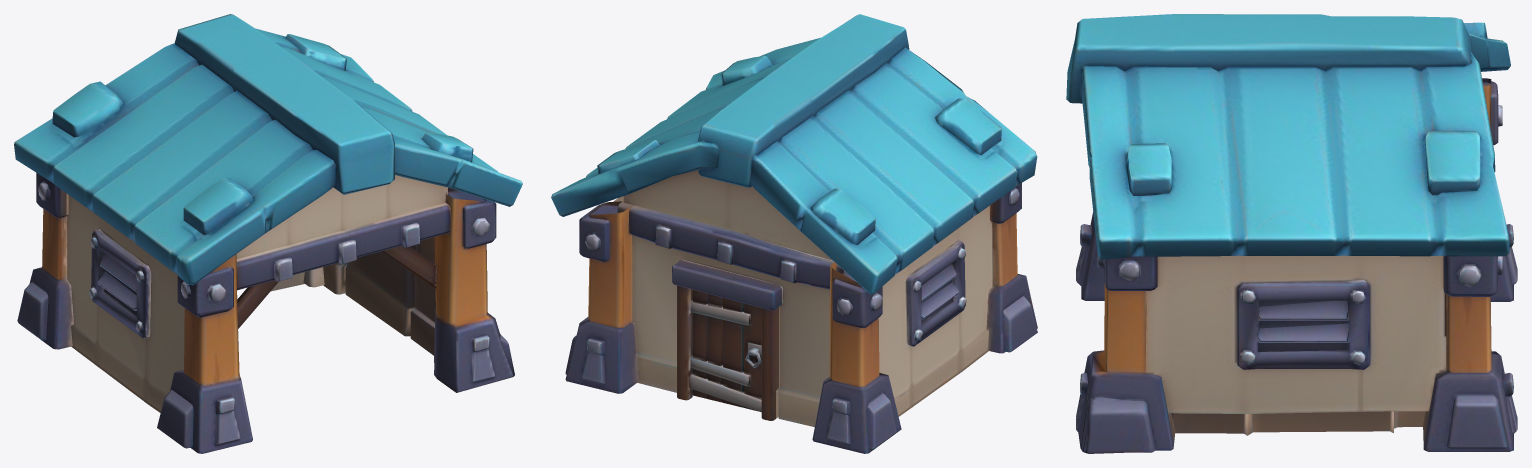
File: SM_Gate.fbx
The picture shows the model from 3 angles, left to right: view 1: azimuth 30°, elevation 25°; view 2: azimuth 150°, elevation 25°; view 3: azimuth 270°, elevation 25°; orthographic projection. The views are drawn at different scales.
Visible parts, largest first — view 1: tripo_node_717ef0be; view 2: tripo_node_717ef0be; view 3: tripo_node_717ef0be.
Part boxes in pixels (x1,y1,x2,y2): tripo_node_717ef0be: (14, 14, 522, 453); tripo_node_717ef0be: (551, 14, 1037, 453); tripo_node_717ef0be: (1066, 14, 1517, 453).
Bounding box in the file's own units: 0.9995 × 0.7925 × 0.9556.
